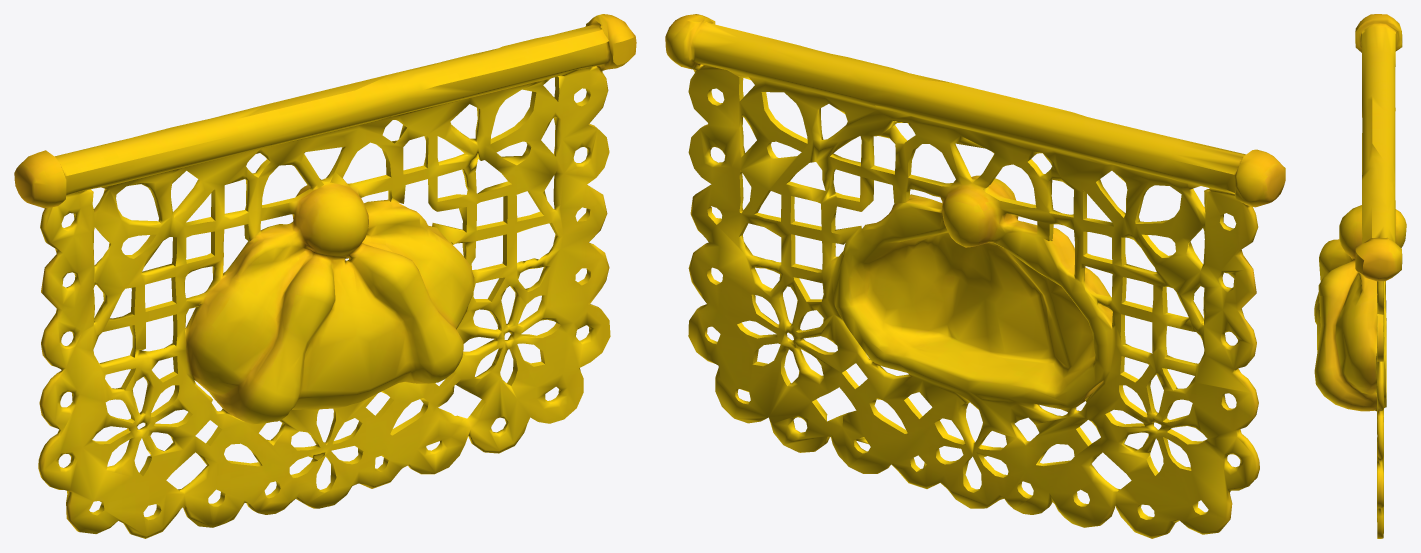
File: papel-picado.pan-de-muerto-optimized.glb
3 views of the same model, side by side, from view 1: azimuth 30°, elevation 25°; view 2: azimuth 150°, elevation 25°; view 3: azimuth 270°, elevation 25° (orthographic). The views are drawn at different scales.
Parts seen in each view (by area): view 1: Mesh_0; view 2: Mesh_0; view 3: Mesh_0.
Boxes of the visible parts, bbox=[...] form: Mesh_0: bbox=[14, 14, 636, 538]; Mesh_0: bbox=[665, 14, 1285, 538]; Mesh_0: bbox=[1314, 14, 1406, 538].
Size of the model in its own units: 1.9 by 1.27 by 0.3104.
Materials: 1 (1 with a texture image).
